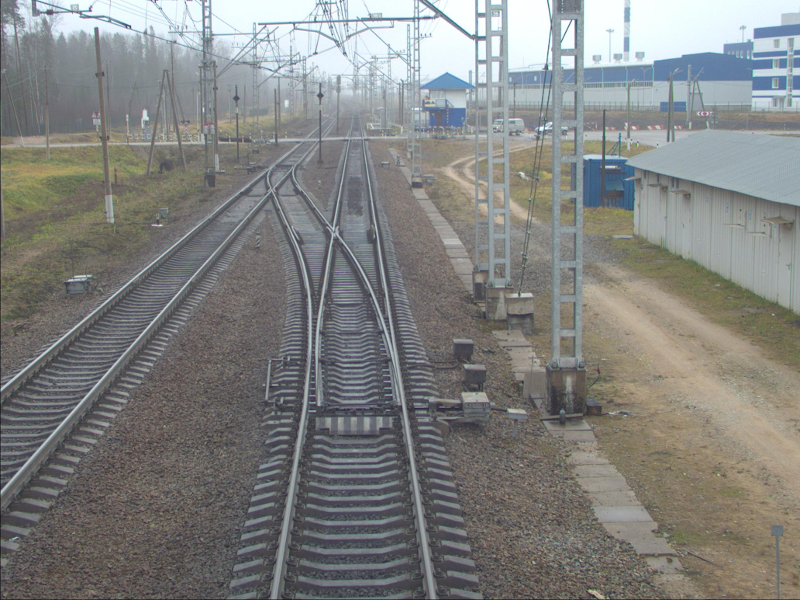left: (303, 331, 405, 408)
